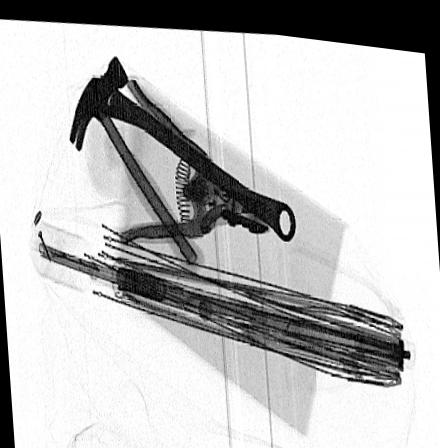Hammer: (68, 49, 211, 275)
Pliers: (117, 69, 273, 247)
Wrench: (85, 78, 296, 234)
